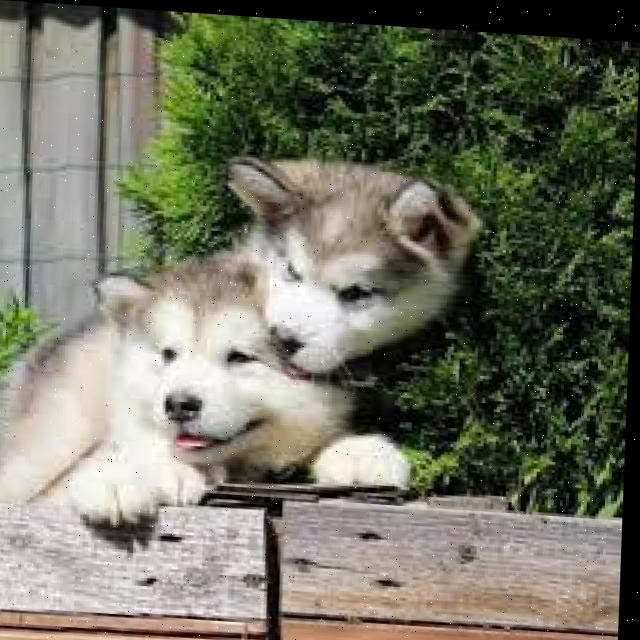ALASKAN_MALAMUTE: (0, 116, 525, 434), (64, 248, 440, 550)
